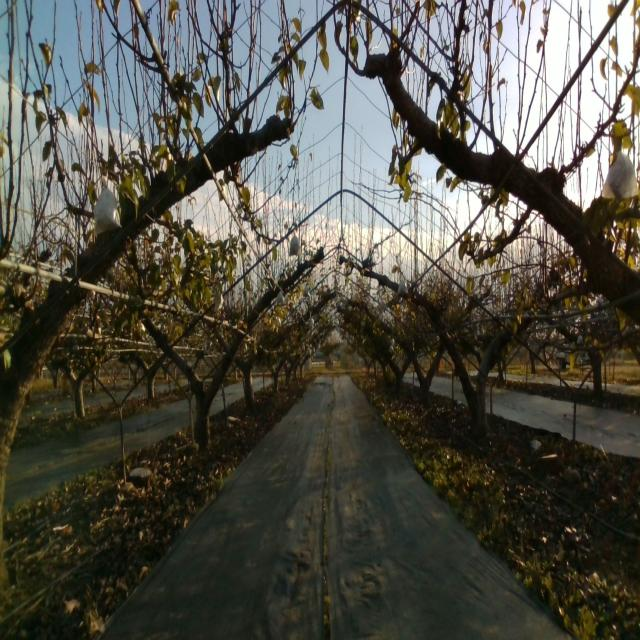pearbags: (600, 148, 640, 200), (92, 177, 122, 236), (289, 229, 303, 257), (396, 276, 408, 295)
